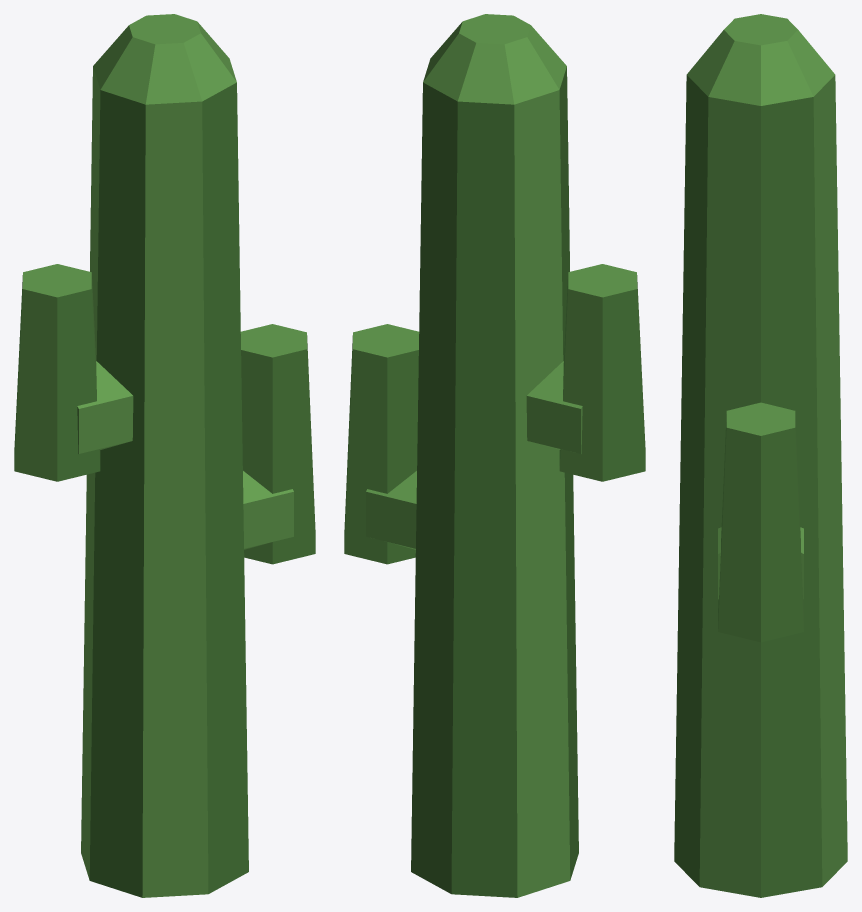
Rendered from cactus_tall.glb.
3 views of the same model, side by side, from view 1: azimuth 30°, elevation 25°; view 2: azimuth 150°, elevation 25°; view 3: azimuth 270°, elevation 25° (orthographic).
Parts seen in each view (by area): view 1: cactus_tall; view 2: cactus_tall; view 3: cactus_tall.
Part boxes in pixels (bbox=[...]): cactus_tall: bbox=[14, 14, 315, 897]; cactus_tall: bbox=[344, 14, 645, 897]; cactus_tall: bbox=[674, 14, 847, 897].
Size of the model in its own units: 0.28 by 0.74 by 0.14.
1 material, 1 textured.
